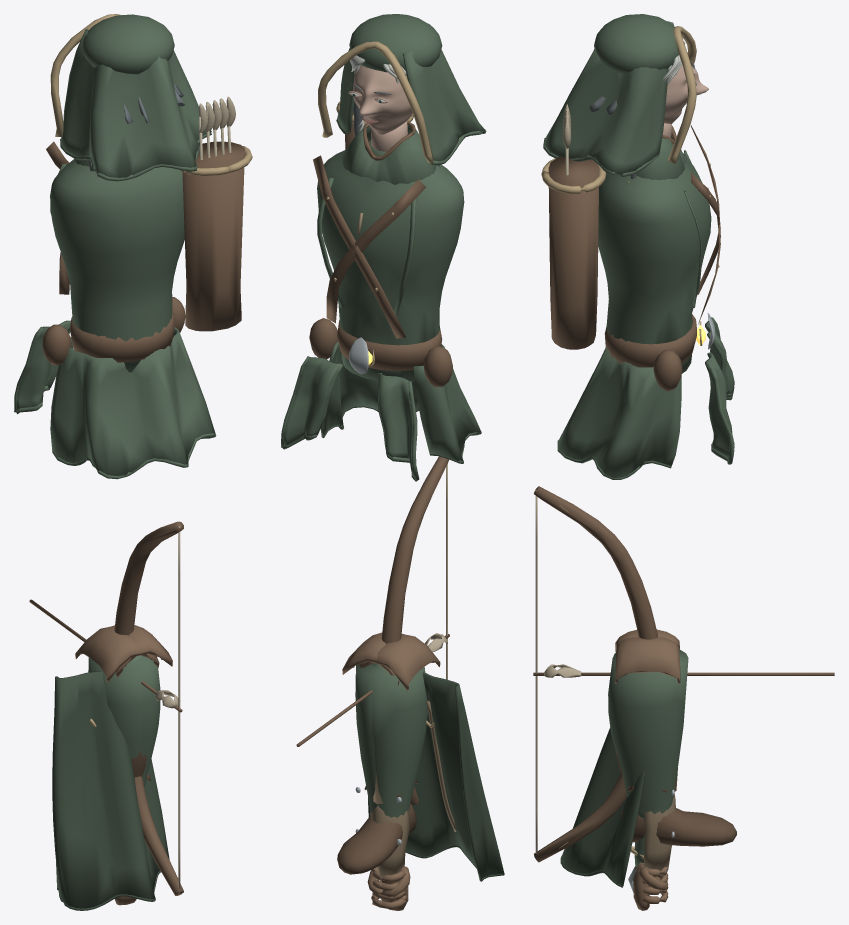
Rendered from ranger.glb.
3 renders of one model, left to right at view 1: azimuth 30°, elevation 25°; view 2: azimuth 150°, elevation 25°; view 3: azimuth 270°, elevation 25°, orthographic.
Parts seen in each view (by area): view 1: Body__sage, Cape__sage, Body__leather, Weapon__leather, LegL__sage, ArmL__leather, Body__gold, LegR__sage, BowString__linen, Body__linen, ArmR__leather, Body__bone; view 2: Body__sage, Cape__sage, Body__leather, LegL__sage, Body__skin, Weapon__leather, ArmL__leather, KneeL__leather, Body__gold, LegR__sage, ArmR__leather, ArmL__bronze (+2 smaller); view 3: Body__sage, Body__leather, LegR__sage, Cape__sage, Weapon__leather, ArmR__leather, KneeL__leather, Body__gold, ArmL__bronze, Body__skin, ArmL__leather, BowString__linen (+1 smaller).
Part boxes in pixels (box(x1,y1,x2,y2)): Body__sage: box(14, 14, 216, 479); Cape__sage: box(52, 671, 169, 910); Body__leather: box(42, 141, 244, 365); Weapon__leather: box(114, 521, 183, 895); LegL__sage: box(88, 656, 152, 759); ArmL__leather: box(75, 626, 159, 905); Body__gold: box(50, 14, 252, 175); LegR__sage: box(124, 660, 160, 786); BowString__linen: box(178, 526, 180, 893); Body__linen: box(199, 96, 235, 133); ArmR__leather: box(112, 625, 172, 677); Body__bone: box(199, 99, 231, 159); Body__sage: box(281, 14, 486, 481); Cape__sage: box(368, 672, 504, 881); Body__leather: box(309, 112, 452, 387); LegL__sage: box(356, 664, 427, 816); Body__skin: box(348, 65, 412, 151); Weapon__leather: box(381, 456, 448, 804); ArmL__leather: box(356, 634, 440, 910); KneeL__leather: box(337, 780, 418, 874); Body__gold: box(318, 41, 433, 366); LegR__sage: box(355, 665, 409, 817); ArmR__leather: box(342, 632, 410, 910); ArmL__bronze: box(370, 805, 409, 879); Body__sage: box(543, 14, 734, 479); Body__leather: box(548, 125, 720, 391); LegR__sage: box(608, 650, 688, 811); Cape__sage: box(560, 727, 644, 887); Weapon__leather: box(533, 486, 657, 862); ArmR__leather: box(615, 637, 680, 903); KneeL__leather: box(615, 750, 736, 846); Body__gold: box(541, 26, 719, 345); ArmL__bronze: box(643, 794, 675, 870); Body__skin: box(662, 65, 708, 137); ArmL__leather: box(615, 629, 679, 910); BowString__linen: box(535, 489, 537, 853).
Size of what is drawn, in the model's own units: 0.5985 by 2.89 by 0.89.
